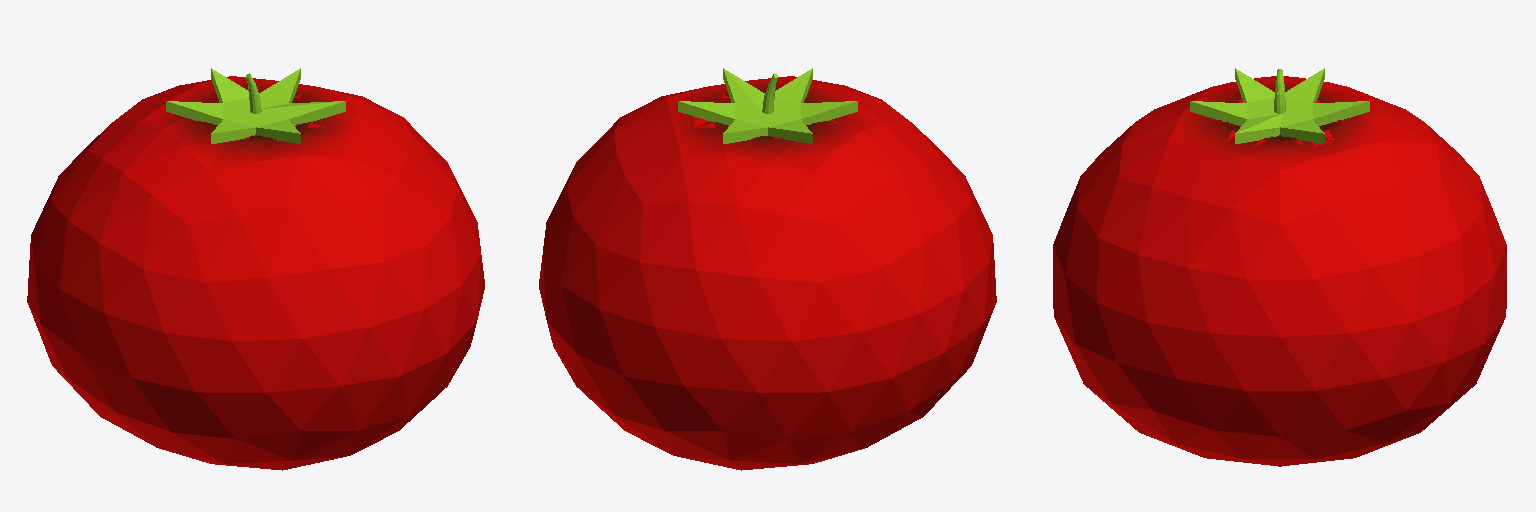
The picture shows the model from 3 angles: view 1: azimuth 30°, elevation 25°; view 2: azimuth 150°, elevation 25°; view 3: azimuth 270°, elevation 25°; orthographic projection.
Visible parts, largest first — view 1: Cylinder002; view 2: Cylinder002; view 3: Cylinder002.
Boxes of the visible parts, x1=… form: Cylinder002: x1=27, y1=68, x2=484, y2=470; Cylinder002: x1=539, y1=68, x2=996, y2=470; Cylinder002: x1=1053, y1=68, x2=1506, y2=466.
Size of the model in its own units: 124 by 111 by 124.
Materials: 1 (1 with a texture image).